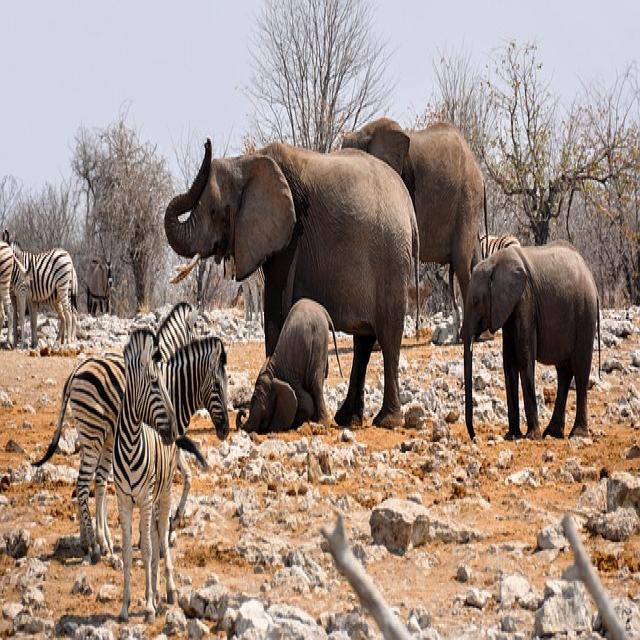elephant: (165, 140, 419, 427), (462, 243, 599, 439), (344, 118, 485, 302), (244, 299, 334, 432)
